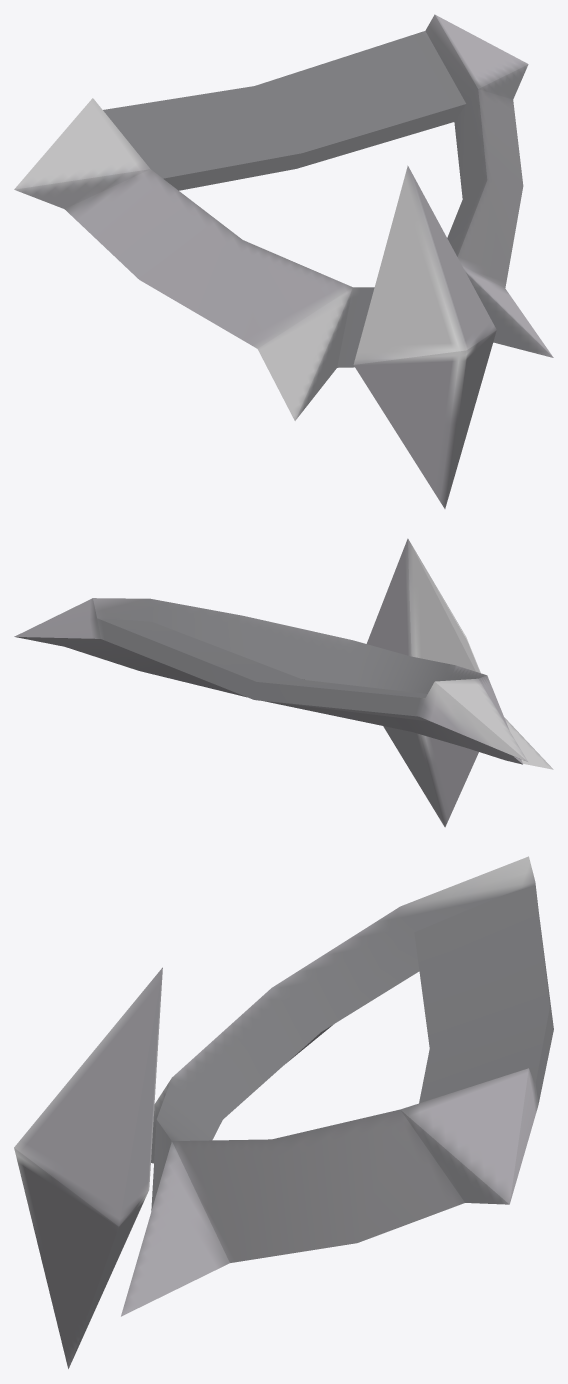
File: W_ClipTie.glb
3 renders of one model, top to bottom at view 1: azimuth 30°, elevation 25°; view 2: azimuth 150°, elevation 25°; view 3: azimuth 270°, elevation 25°, orthographic. The views are drawn at different scales.
Visible parts, largest first — view 1: W_ClipTie; view 2: W_ClipTie; view 3: W_ClipTie.
Part boxes in pixels (bbox=[...]): W_ClipTie: bbox=[14, 14, 553, 508]; W_ClipTie: bbox=[14, 538, 553, 827]; W_ClipTie: bbox=[14, 856, 553, 1368].
Size of the model in its own units: 0.0501 by 0.0299 by 0.0359.
1 material, 1 textured.
